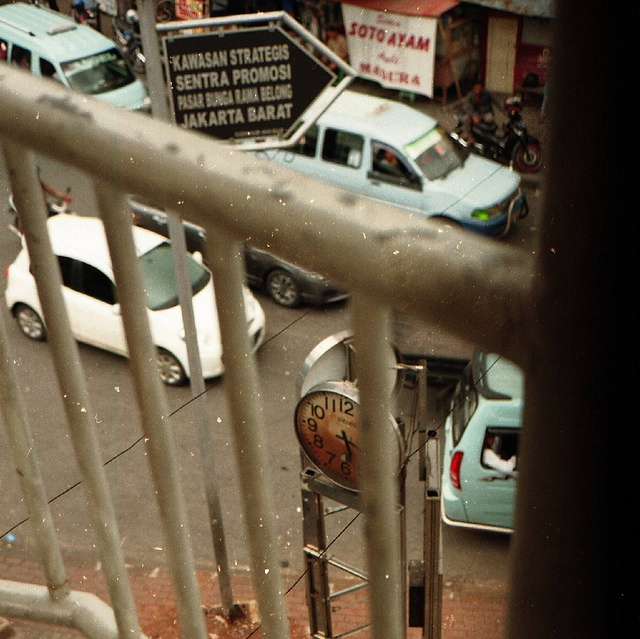non-vehicle: (464, 118, 542, 169), (5, 185, 73, 238)
